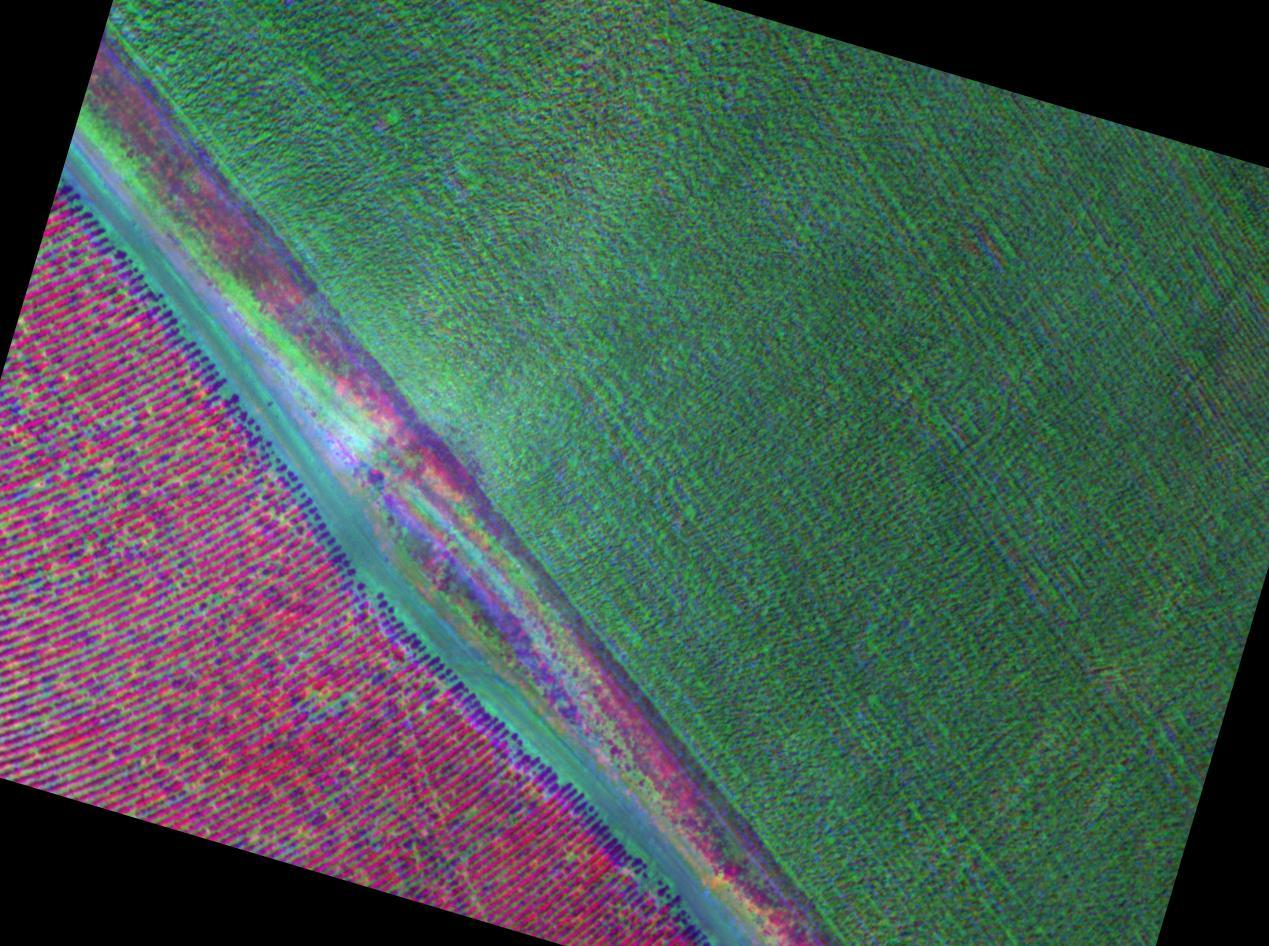dc: (22, 451, 122, 500), (292, 677, 363, 727), (110, 508, 166, 568), (8, 345, 64, 395), (1, 508, 48, 563)
